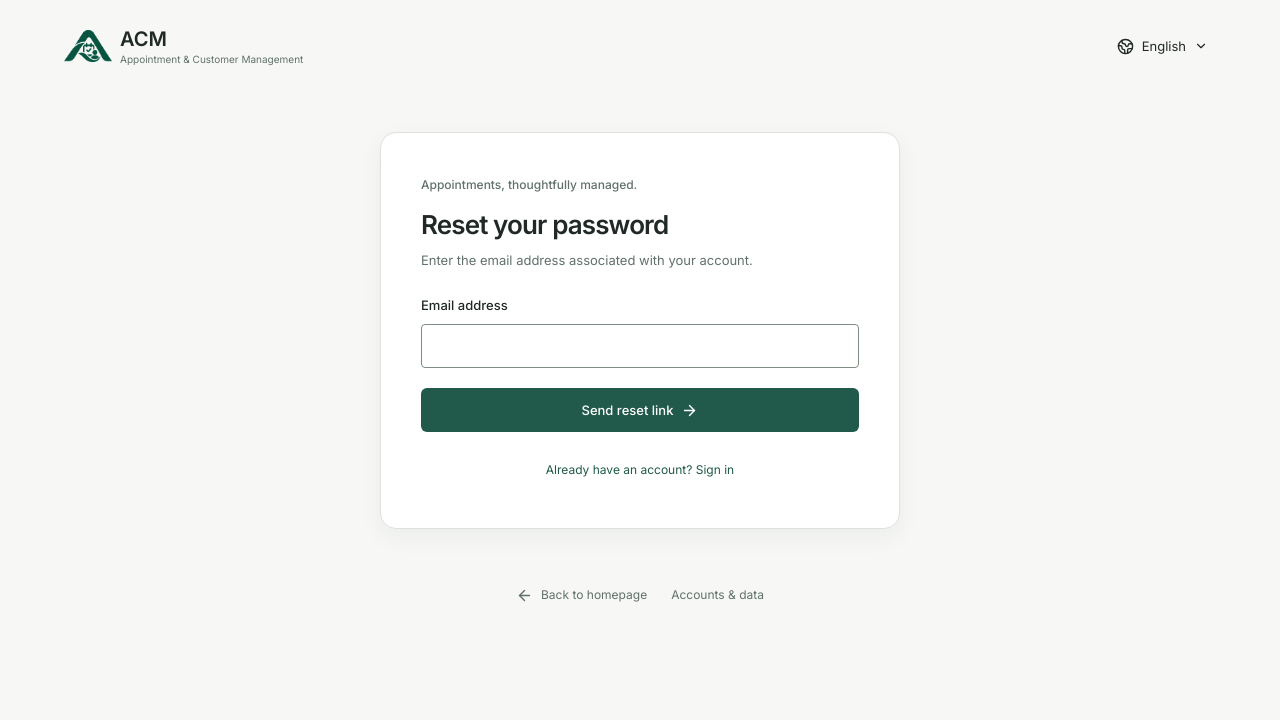
Test: authentication screens › reports a failed reset request without claiming delivery
In the field labelled "Email address": coordinates (640, 346) [421, 324, 859, 368], type "owner@example.test"
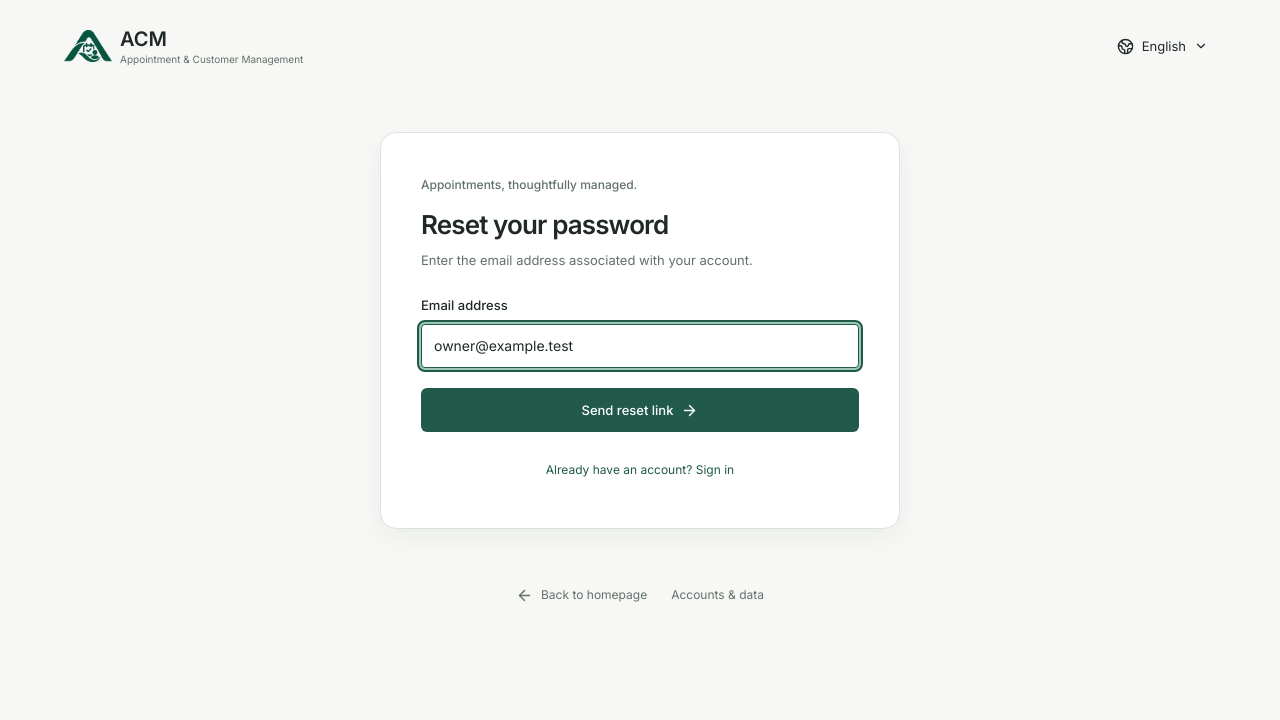
Click the button "Send reset link": coordinates (640, 410) [421, 388, 859, 432]
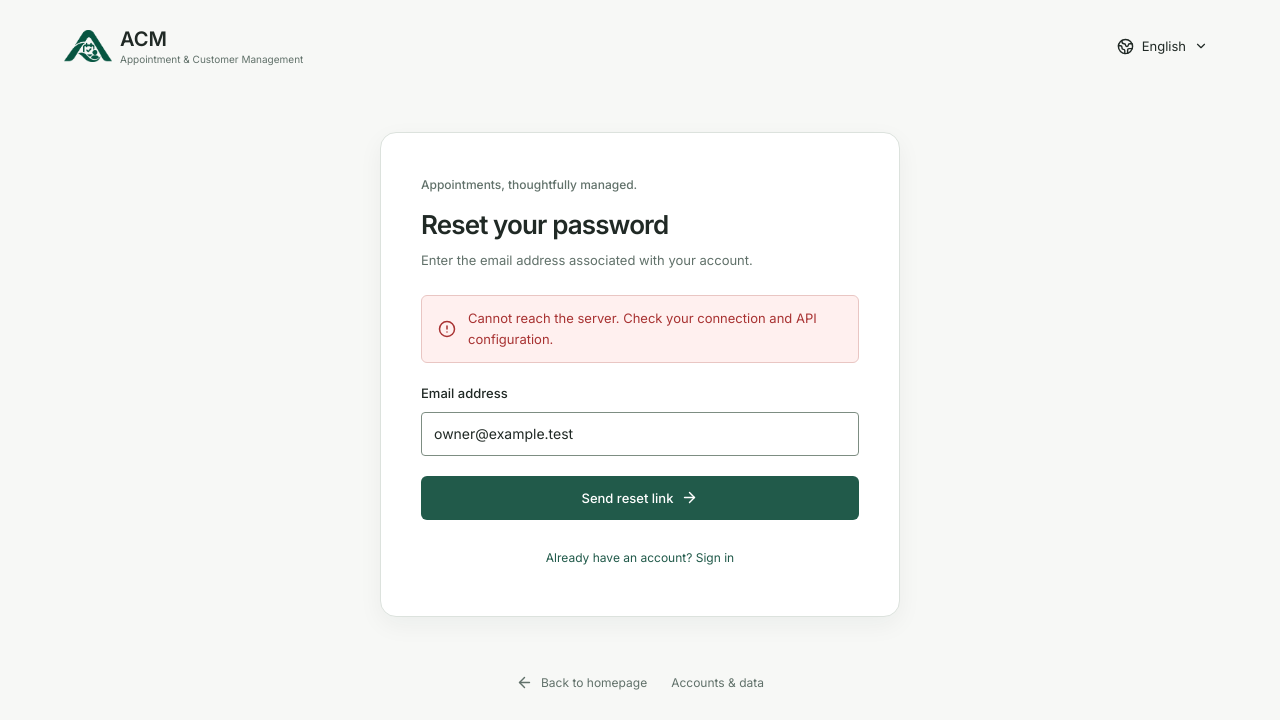
Now the message "Cannot reach the server. Check your connection and API configuration." is shown, box [421, 295, 859, 363]
